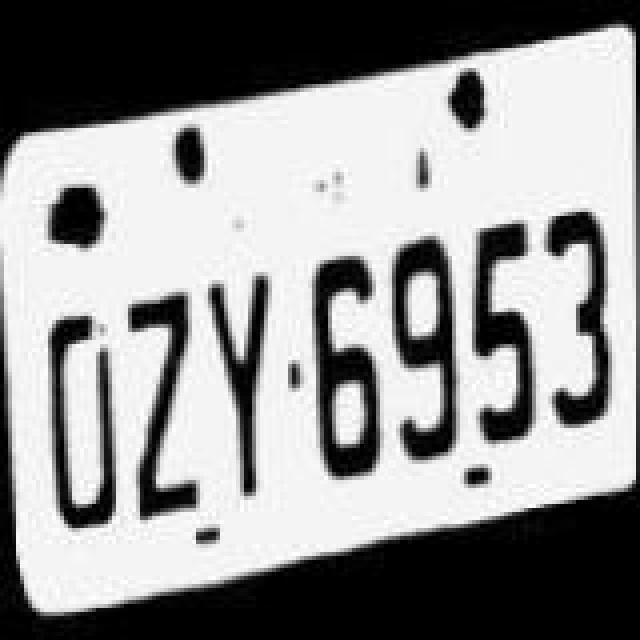3: (542, 196, 622, 452)
5: (462, 202, 542, 474)
6: (306, 244, 386, 504)
9: (392, 226, 468, 494)
O: (46, 294, 130, 562)
Y: (202, 258, 278, 510)
Z: (118, 284, 202, 552)
